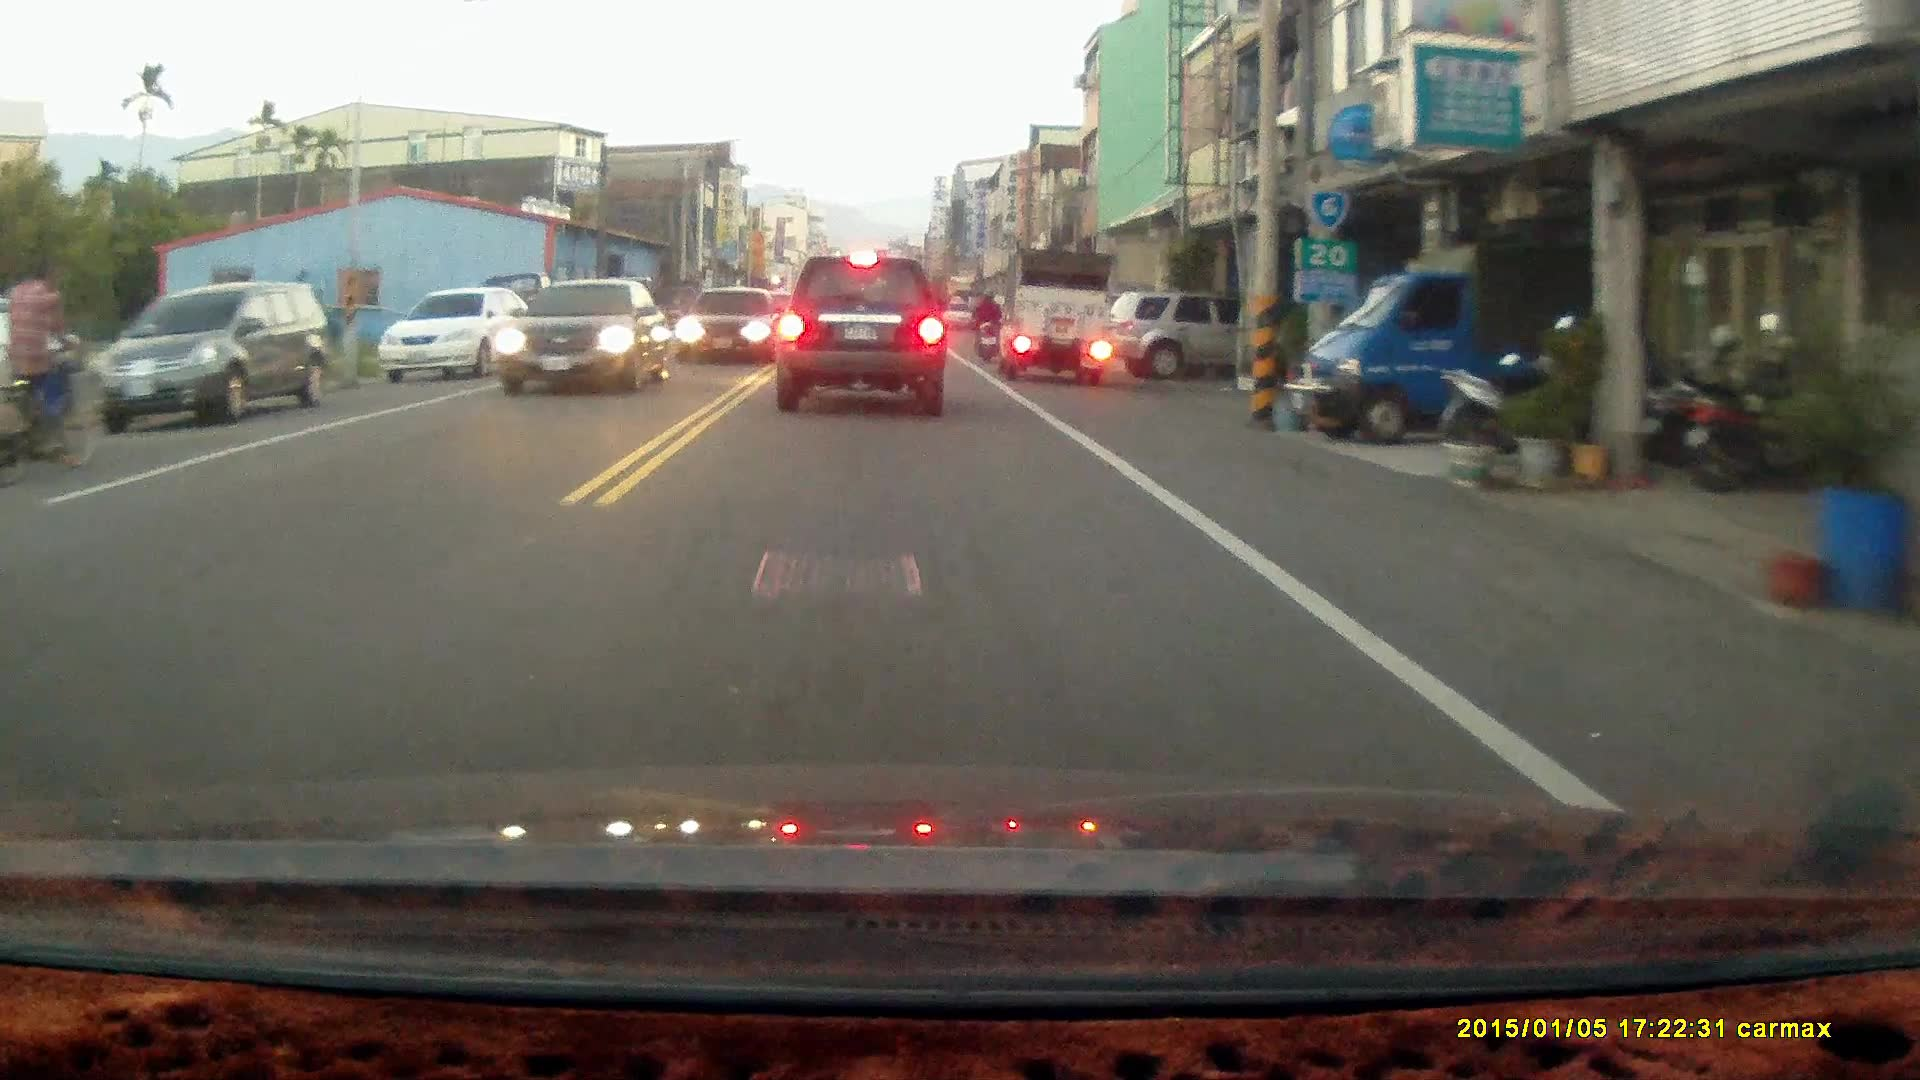rider: (1, 254, 110, 484), (969, 284, 1004, 365)
vehicle: (1306, 211, 1602, 450), (89, 282, 336, 429), (772, 260, 948, 426), (494, 281, 668, 401), (381, 288, 546, 387), (1006, 250, 1114, 386), (1110, 293, 1240, 388), (679, 291, 781, 367)
